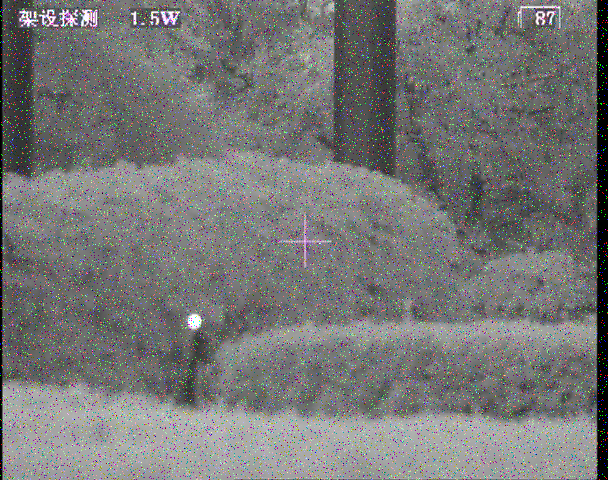my: (186, 313, 202, 330)
